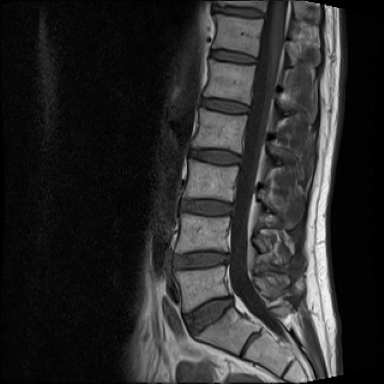Lumbar Disc Bulge (LDB): (171, 284, 257, 342), (165, 229, 244, 275), (172, 185, 245, 223)
Normal IVD: (191, 89, 254, 120), (182, 140, 245, 169), (202, 41, 260, 72), (210, 0, 269, 23)
Spinal Stenosis (SS): (210, 239, 244, 281), (218, 287, 244, 321)
